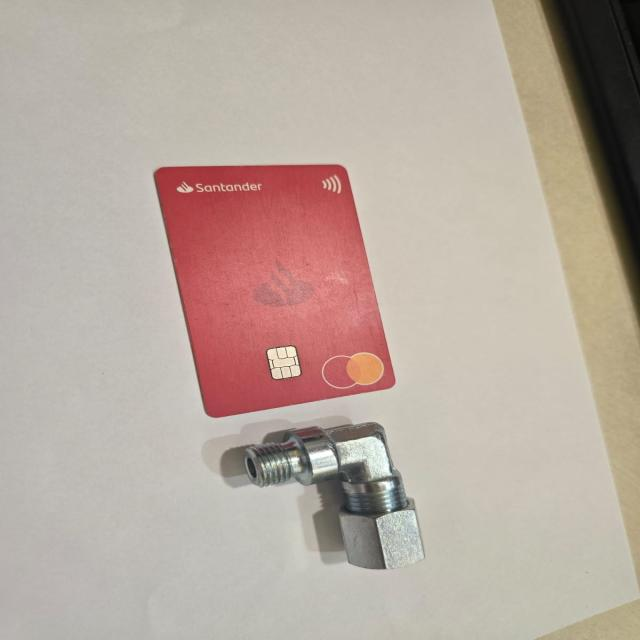cartao: (149, 165, 397, 418)
rosca_externa: (245, 422, 430, 570)
